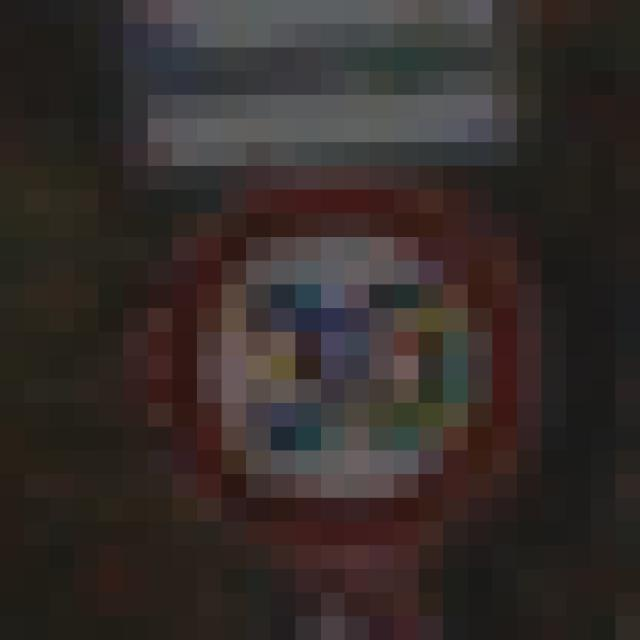Speed Limit -30-: (110, 130, 504, 510)
